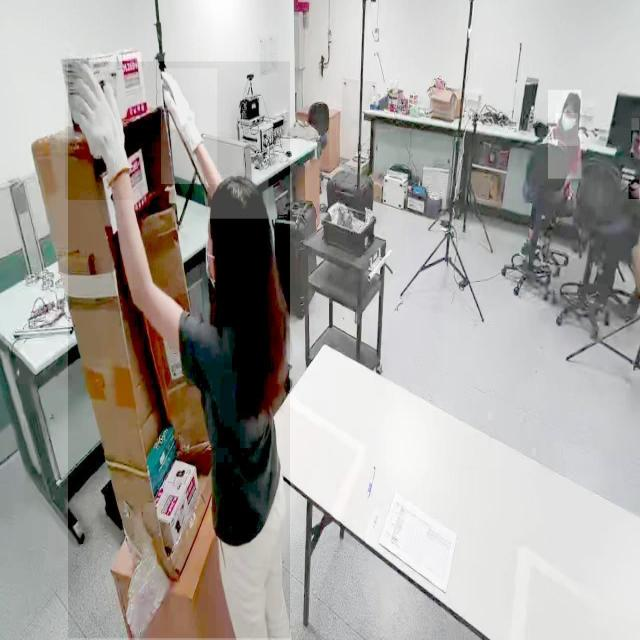face_mask: (556, 113, 578, 146)
face_nomask: (631, 131, 639, 158)
hand_glove: (65, 62, 143, 200), (161, 68, 217, 184)
hand_noglove: (628, 180, 640, 200)
head_nohelmet: (207, 174, 269, 220), (562, 91, 580, 104), (632, 118, 640, 131)
person: (68, 61, 290, 639), (548, 90, 582, 180)
